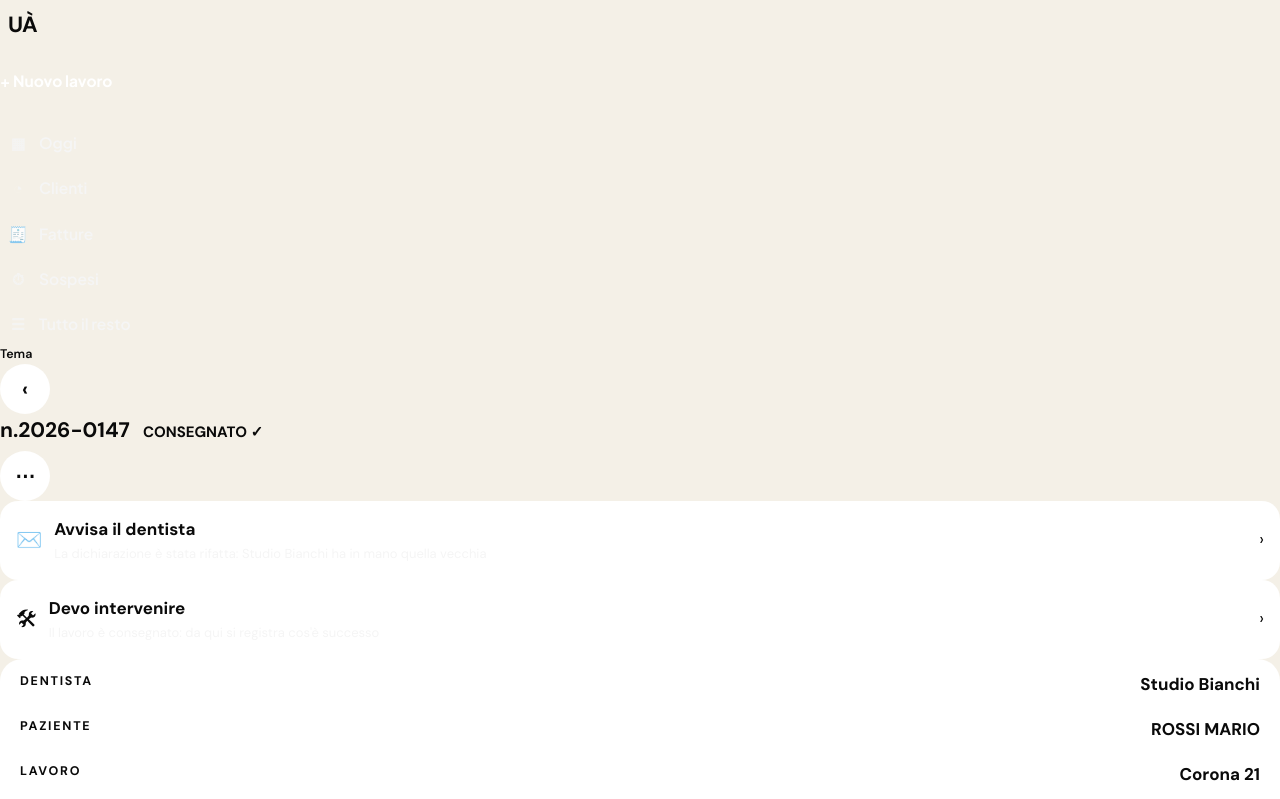
Scenario: La riga «Avvisa il dentista» sulla scheda (Task 6) › premendo la riga si apre il foglio, sulla domanda sola
This screenshot has width=1280, height=799.
Click the button "Avvisa il dentista".
click(125, 528)  # box x1=0 y1=500 x2=1279 y2=580
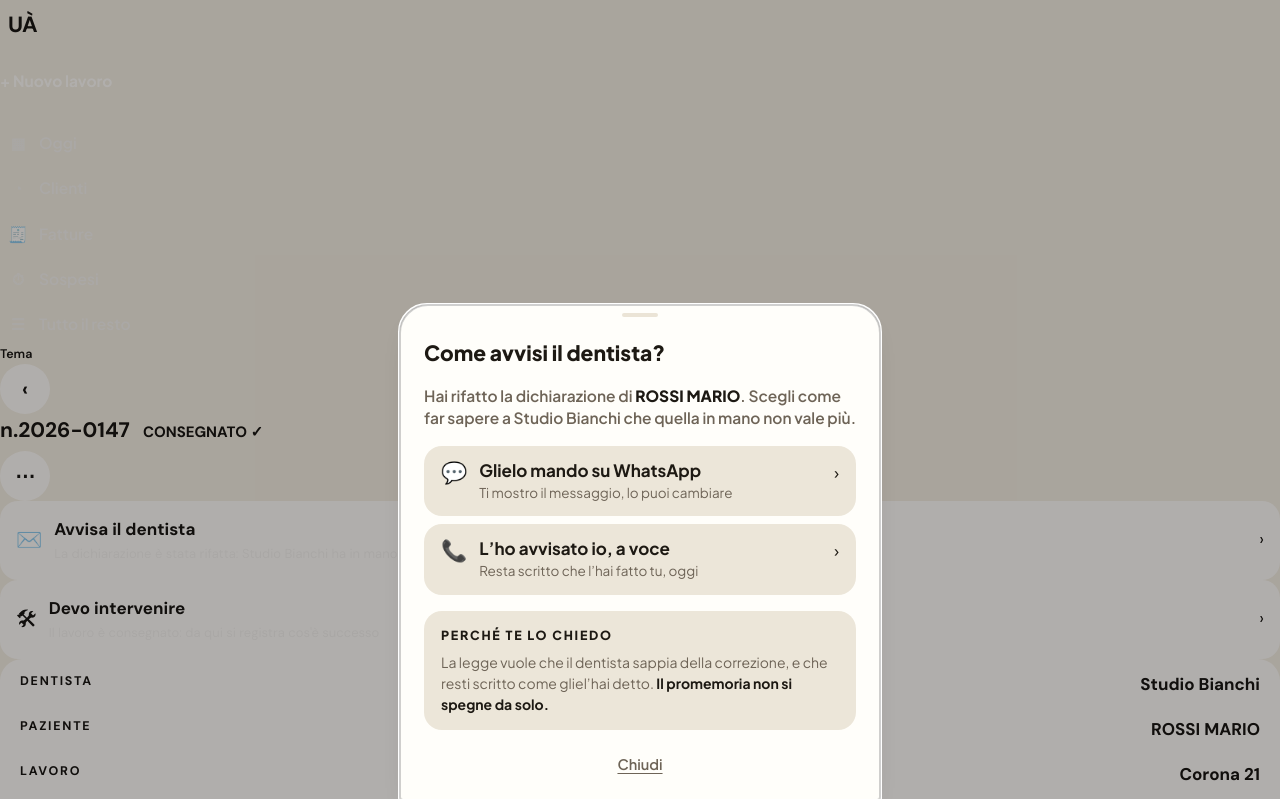
Result: the heading "Come avvisi il dentista?" is shown at x1=424 y1=339 x2=665 y2=366
Result: the button "Glielo mando su WhatsApp" is shown at x1=424 y1=446 x2=856 y2=516
Result: the button "L’ho avvisato io, a voce" is shown at x1=424 y1=524 x2=856 y2=594
